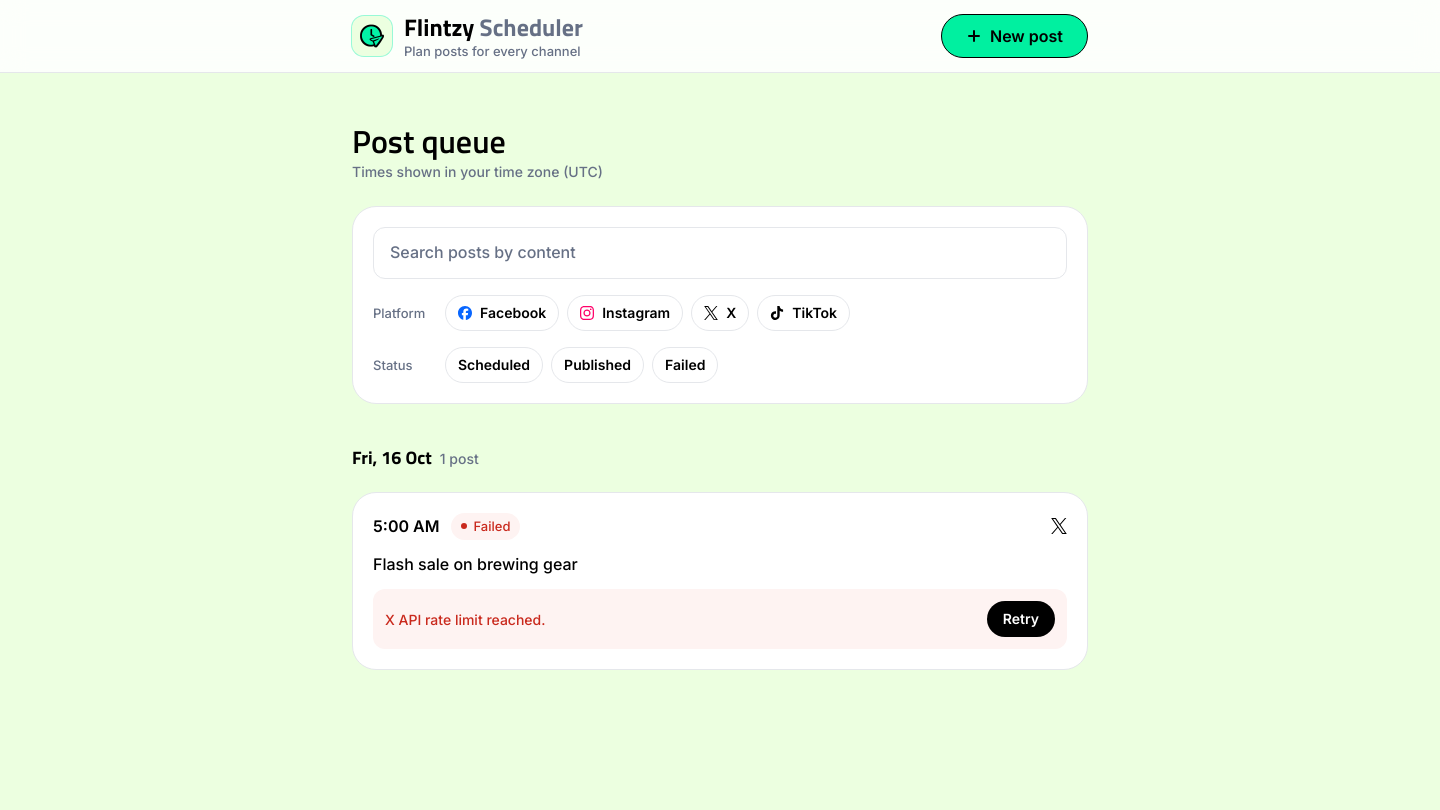
Test: retrying failed posts › rolls back to failed and shows an error when the retry fails
This screenshot has width=1440, height=810.
Check: the text "Flash sale on brewing gear" is shown, box [373,554,578,574]
Click the button "Retry". click: (1021, 619)
box: [987,601,1055,637]
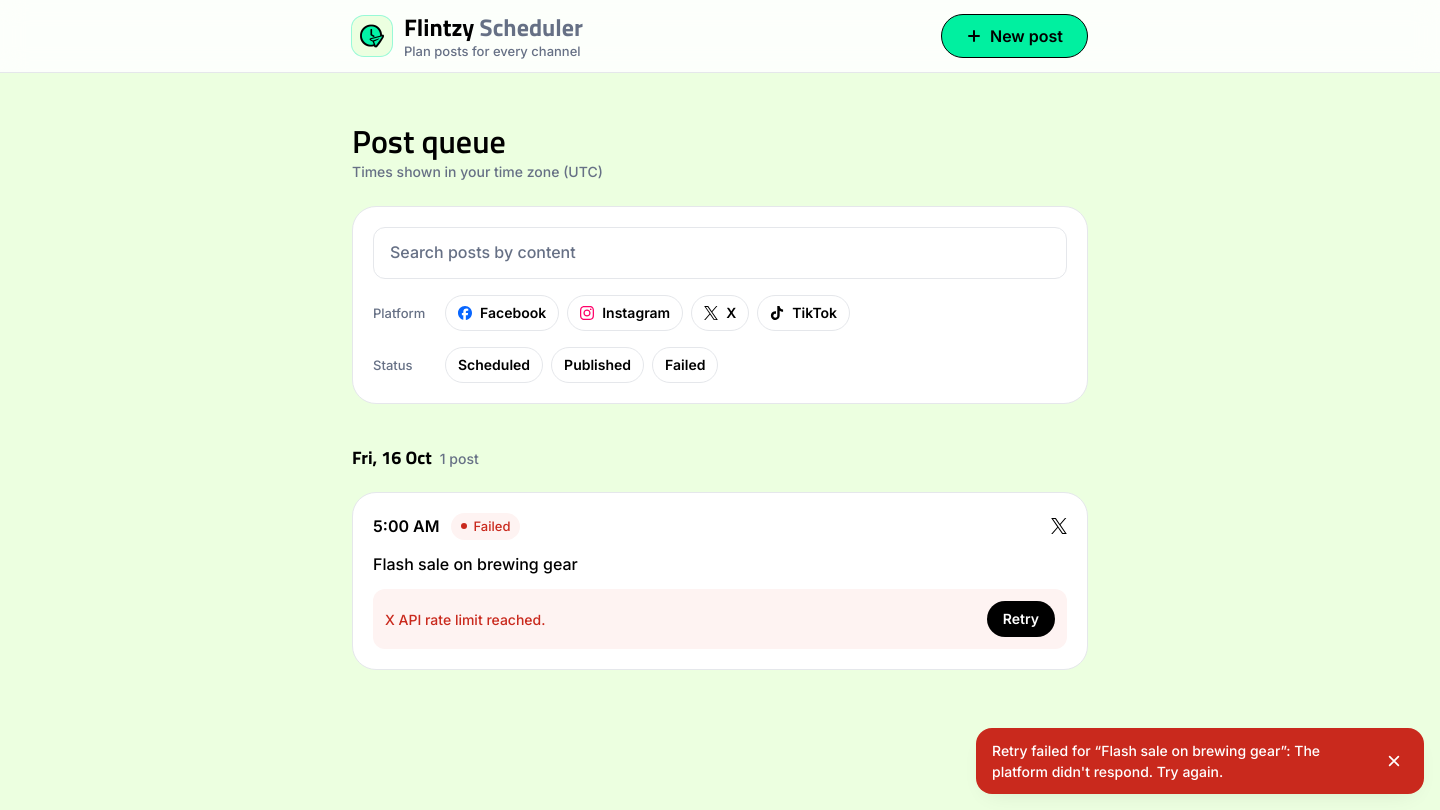
Check: the text "Failed" is shown, box [451,513,520,540]
Check: the text "Retry failed for “Flash sale on brewing gear”: The platform didn't respond. Try again." is shown, box [992,742,1320,780]
